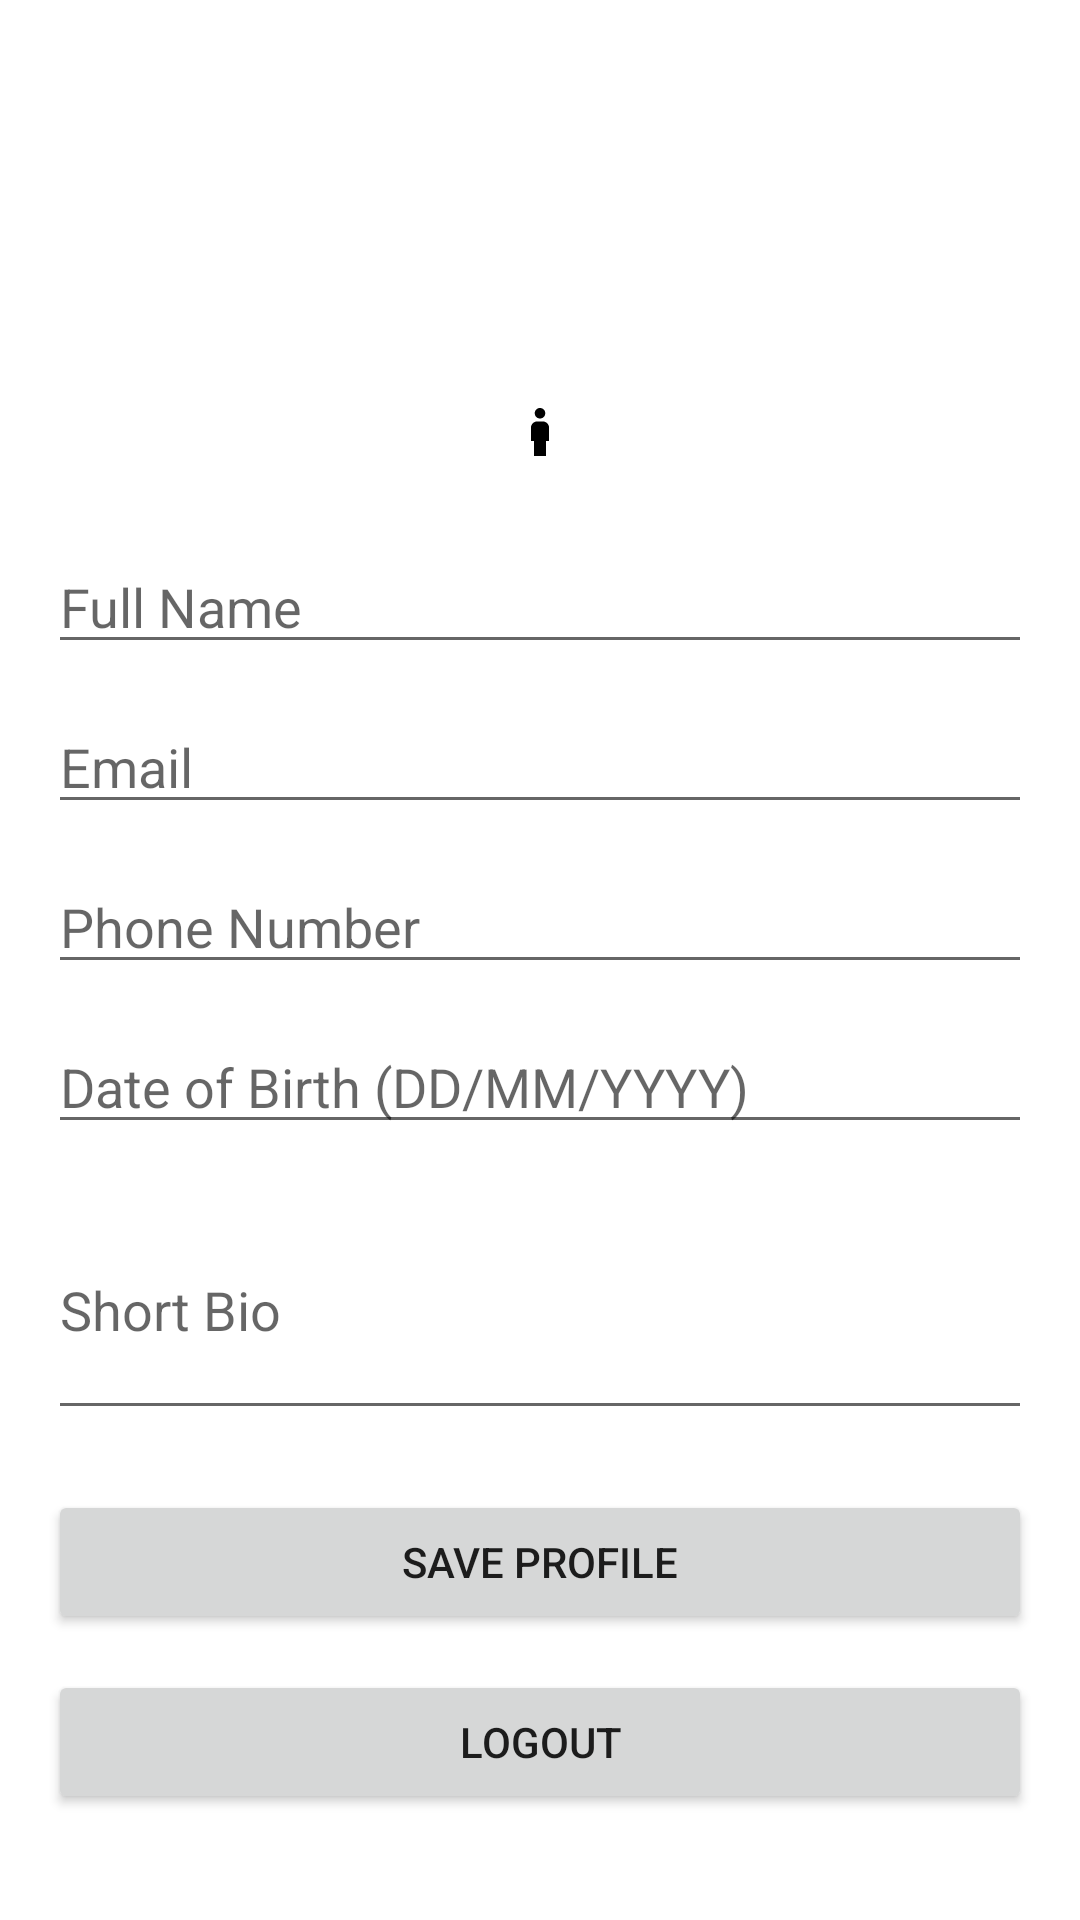

Named icons in this screenshot (1080*1920) and their centers, [x,y]:
Switch User: [540,432]
